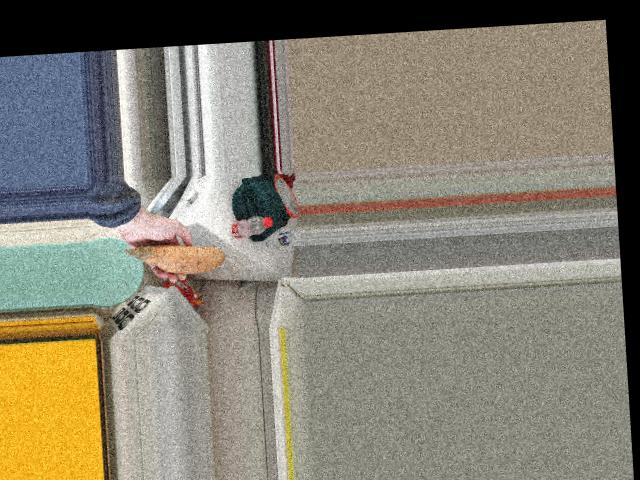sweet_potato: (138, 241, 224, 279)
